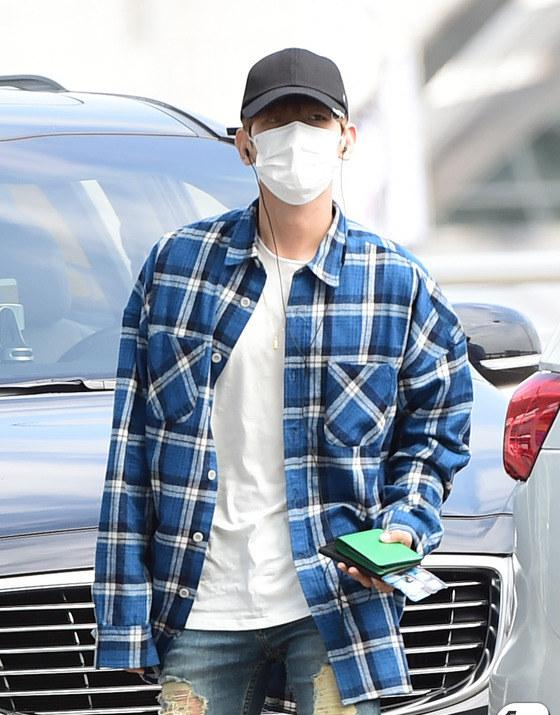face_mask: (251, 83, 337, 202)
